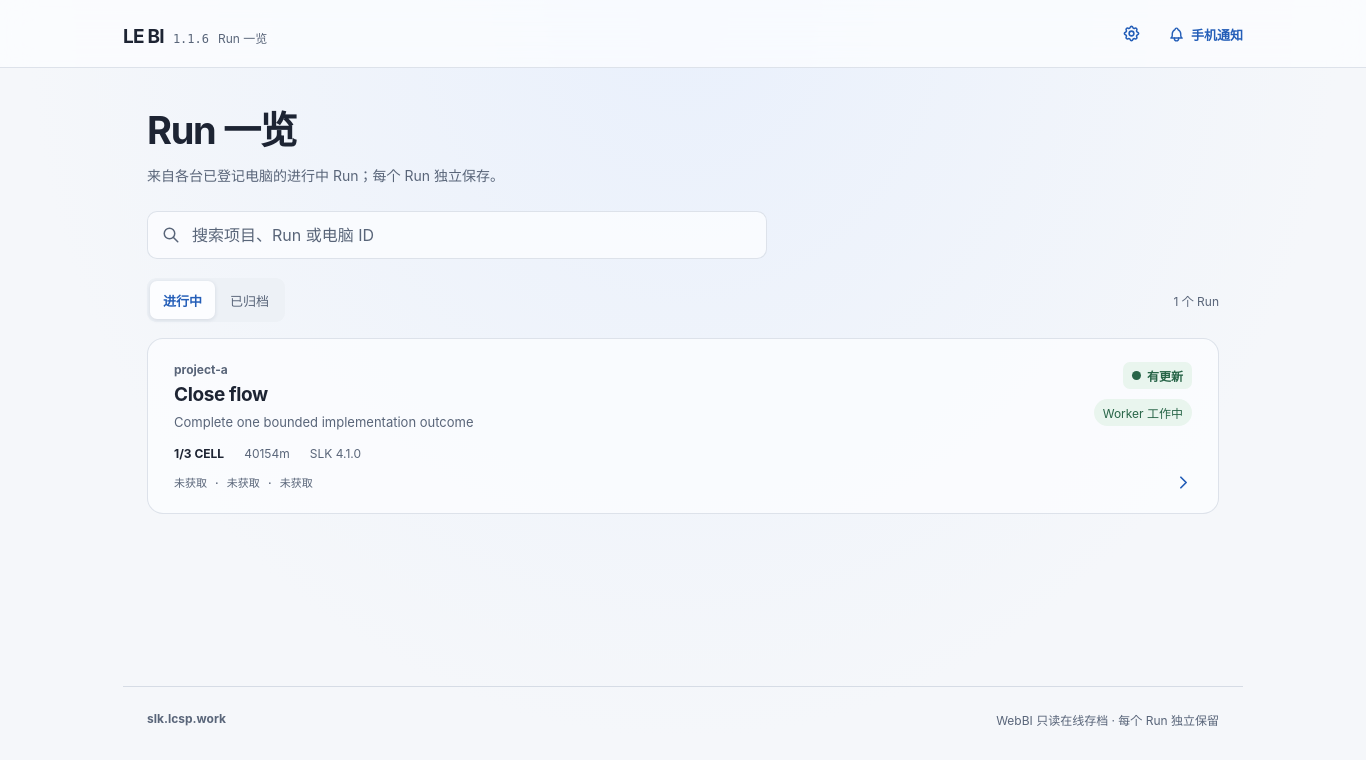
WebBI 1.1 browser UI › creates an unread badge only after a later authoritative message and clears it on open
Expected: the text "Close flow" is shown, [174,383,268,406]
Expected: the text "有更新" is shown, [1123,362,1192,389]
Click the link "Close flow". click: (683, 426)
box: [148,339,1218,513]
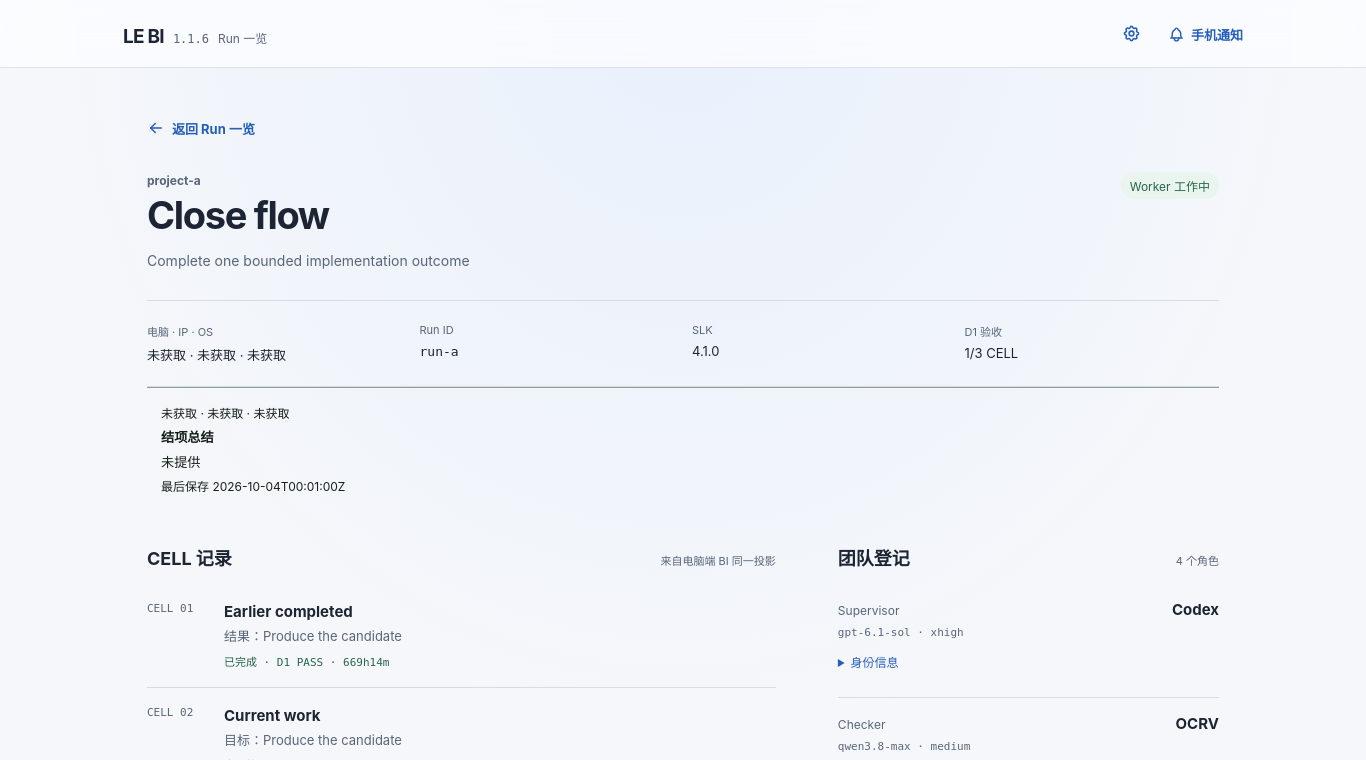
Now the text "有更新" is gone
